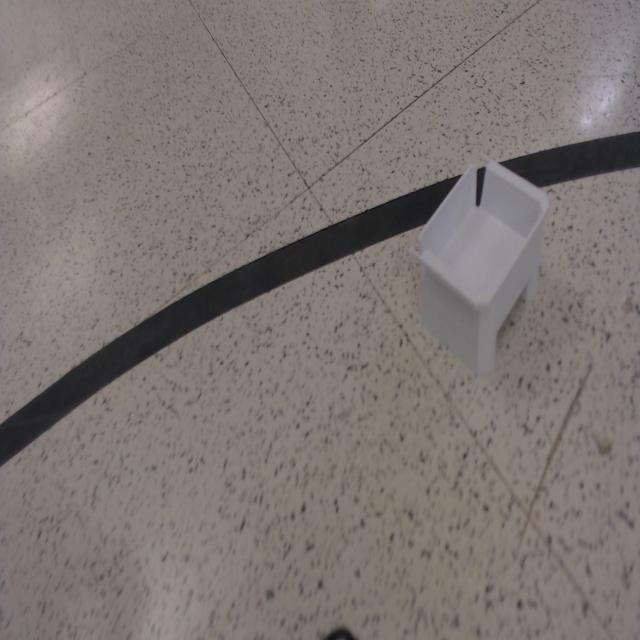wbox: (409, 150, 551, 377)
